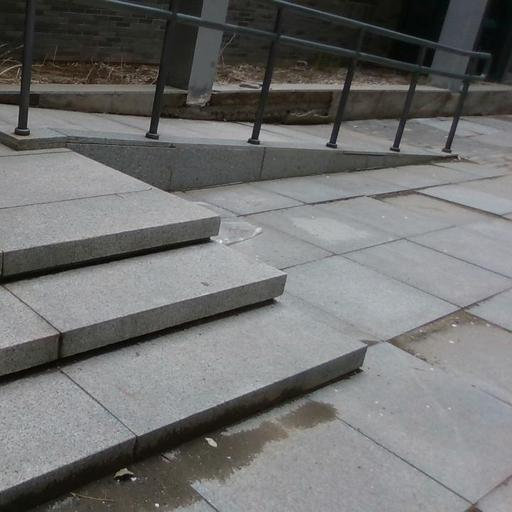Stairs: (0, 293, 366, 510)
